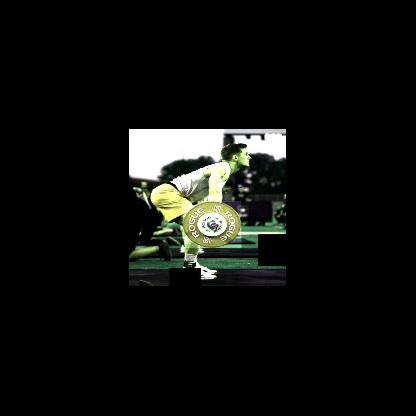barbell: (182, 201, 241, 247)
